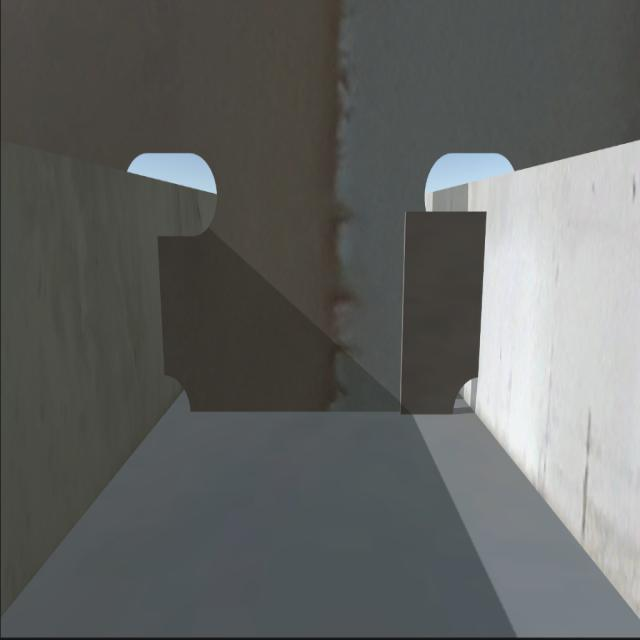fillet_hole: (454, 376, 486, 416), (164, 379, 194, 415)
fillet_yong_jeop_jang: (196, 407, 451, 422)
longi_yong_jeop_jang: (475, 209, 498, 376), (150, 240, 173, 378)
plate_CP01: (401, 208, 482, 402)
